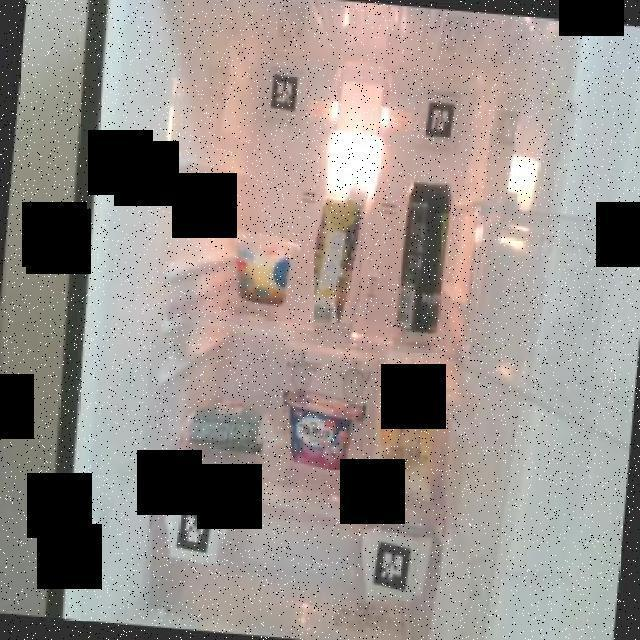can: (394, 175, 454, 336)
pudding: (224, 225, 296, 307)
rice_ball: (180, 394, 274, 452)
sandwich: (368, 353, 444, 501)
smoothie: (314, 179, 371, 323)
yogurt: (277, 384, 363, 470)
